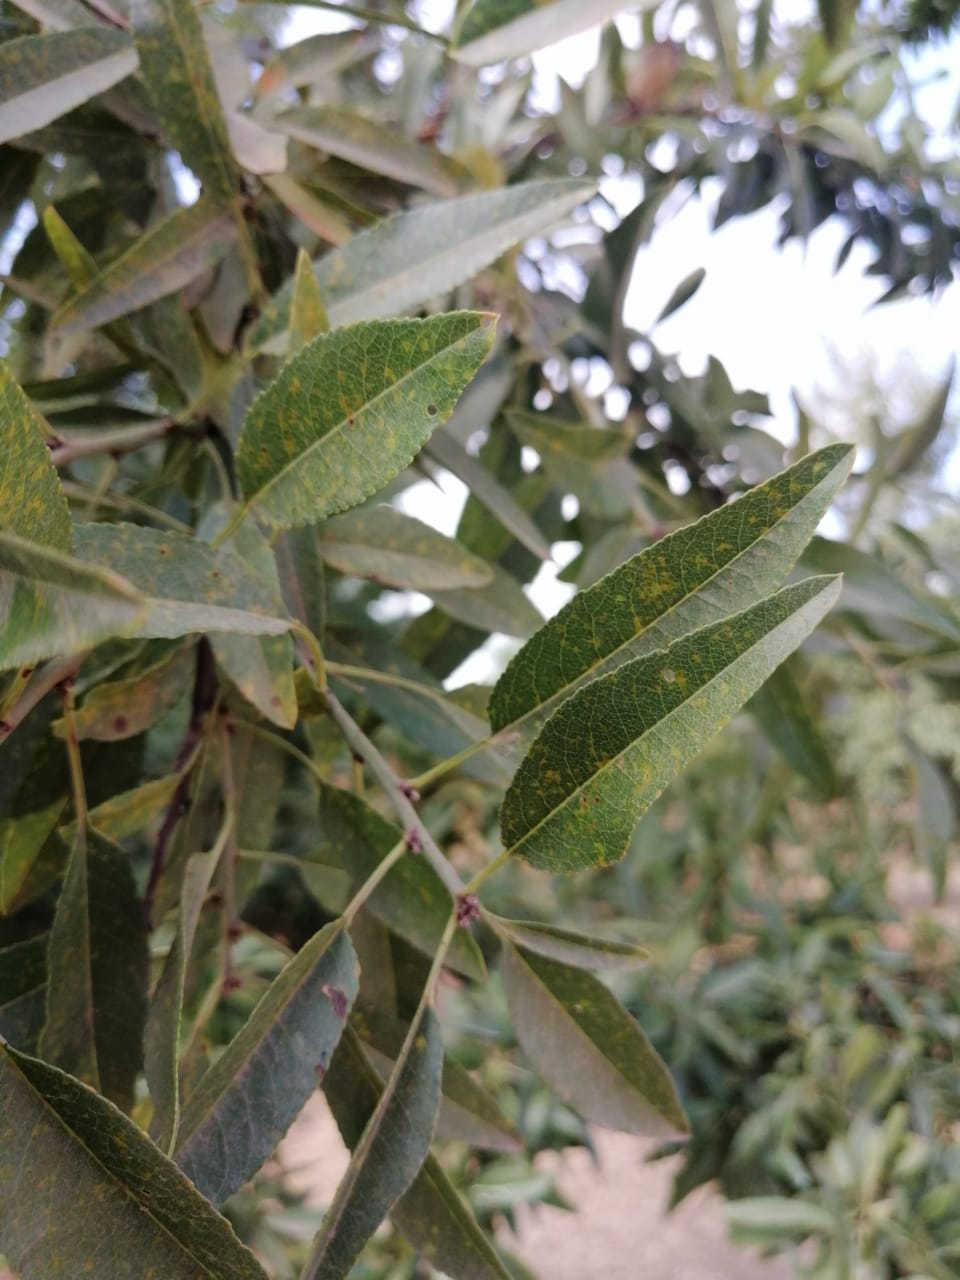rouille: (486, 441, 860, 745), (494, 571, 845, 881), (5, 1044, 271, 1280), (236, 307, 503, 531), (178, 915, 364, 1204), (67, 519, 301, 730), (46, 819, 152, 1114), (186, 491, 301, 738), (55, 642, 199, 745)
